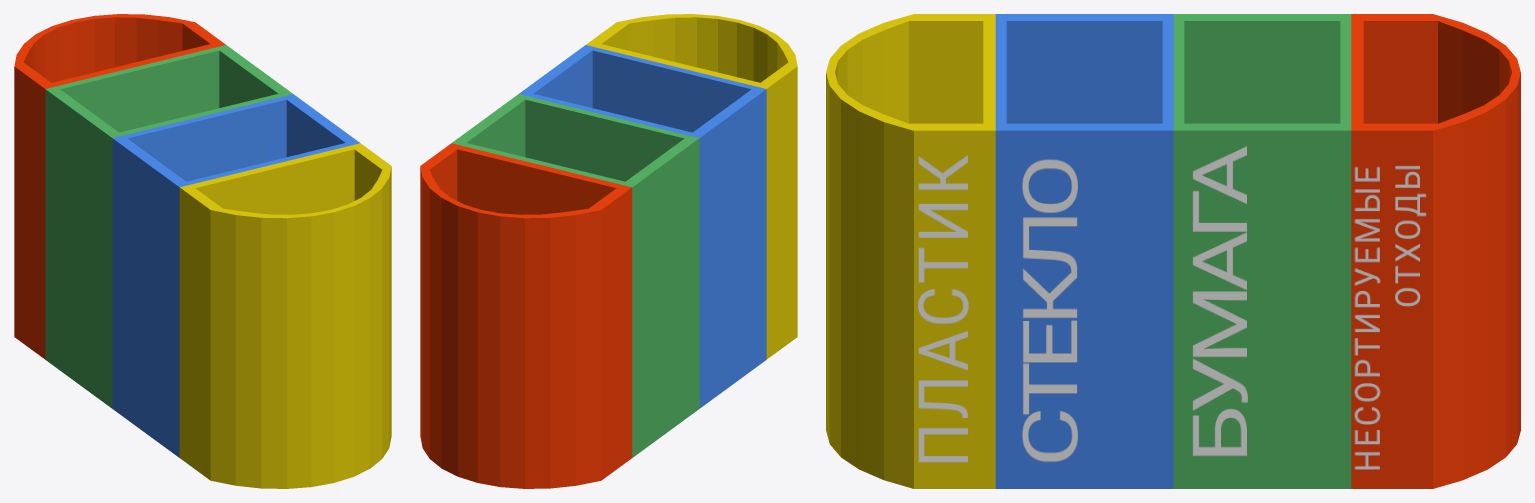
The model's file is GarbageCan2.fbx.
The picture shows the model from 3 angles, left to right: view 1: azimuth 30°, elevation 25°; view 2: azimuth 150°, elevation 25°; view 3: azimuth 270°, elevation 25°; orthographic projection. The views are drawn at different scales.
Parts seen in each view (by area): view 1: Левый Блок, Главный Левый Блок, Главный Правый Блок, Правый Блок; view 2: Правый Блок, Главный Левый Блок, Главный Правый Блок, Левый Блок; view 3: Главный Левый Блок, Главный Правый Блок, Левый Блок, Правый Блок.
Boxes of the visible parts, bbox=[...] form: Левый Блок: bbox=[179, 143, 391, 488]; Главный Левый Блок: bbox=[112, 94, 360, 457]; Главный Правый Блок: bbox=[45, 45, 292, 408]; Правый Блок: bbox=[14, 14, 225, 359]; Правый Блок: bbox=[420, 143, 632, 488]; Главный Левый Блок: bbox=[519, 45, 766, 408]; Главный Правый Блок: bbox=[451, 94, 699, 457]; Левый Блок: bbox=[586, 14, 797, 359]; Главный Левый Блок: bbox=[995, 14, 1173, 488]; Главный Правый Блок: bbox=[1173, 14, 1351, 488]; Левый Блок: bbox=[826, 14, 995, 488]; Правый Блок: bbox=[1351, 14, 1520, 488].
Size of the model in its own units: 140 by 200 by 352.
